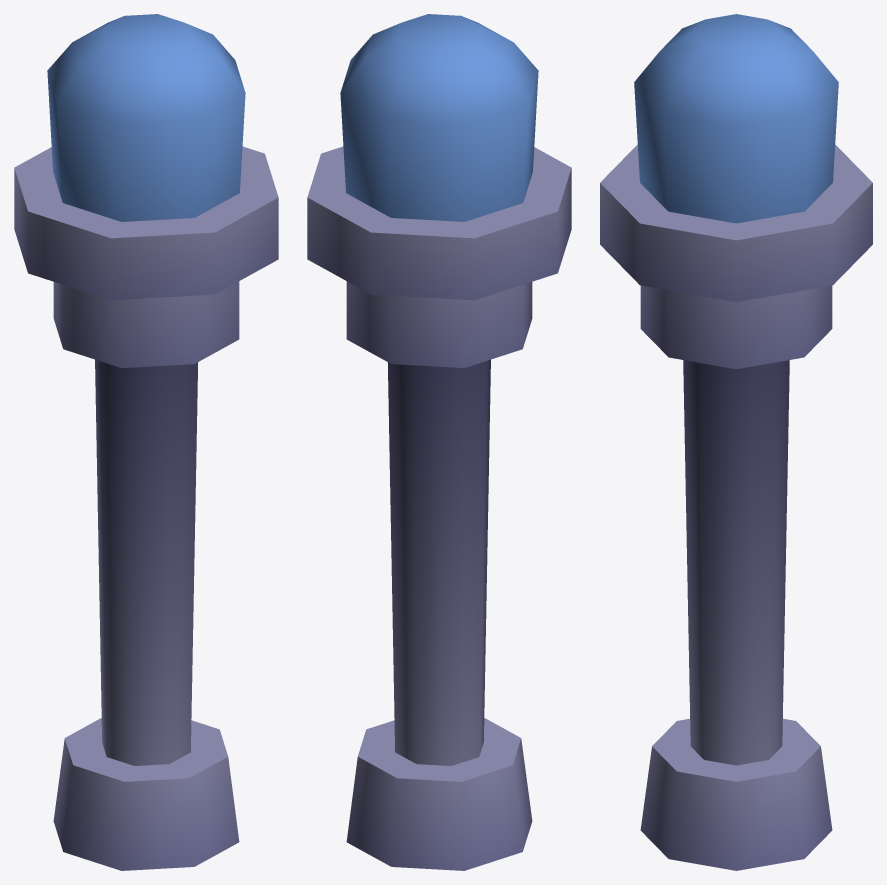
File: NewButton.fbx
The picture shows the model from 3 angles, left to right: view 1: azimuth 30°, elevation 25°; view 2: azimuth 150°, elevation 25°; view 3: azimuth 270°, elevation 25°; orthographic projection.
Visible parts, largest first — view 1: warning-orange; view 2: warning-orange; view 3: warning-orange.
Part boxes in pixels (x1,y1,x2,y2): warning-orange: (14,14,278,870); warning-orange: (307,14,571,870); warning-orange: (600,14,872,870).
Bounding box in the file's own units: 40 × 129 × 40.
